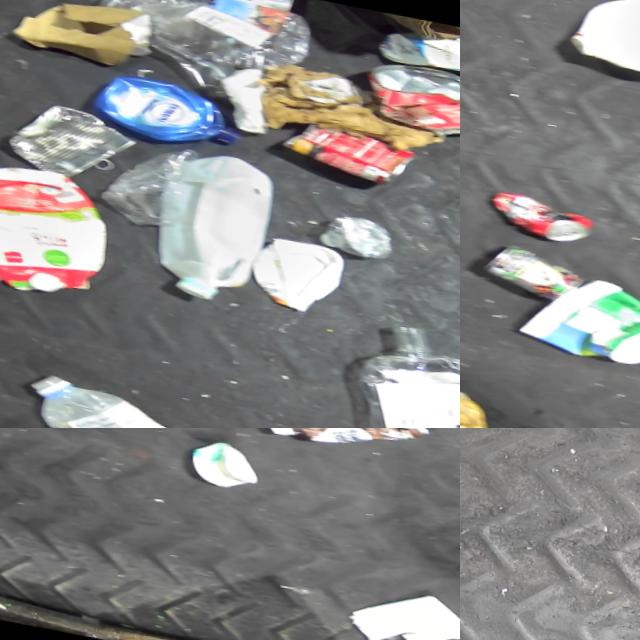can: (5, 97, 141, 188), (279, 112, 423, 184), (357, 51, 460, 139), (483, 239, 595, 304), (487, 185, 604, 246), (0, 244, 13, 315)
milk_jug: (148, 141, 284, 307), (20, 369, 201, 428), (249, 230, 350, 315), (564, 0, 640, 97)
non_white_jug: (0, 153, 124, 302), (88, 67, 251, 153), (378, 12, 460, 78), (214, 0, 304, 9)
plastic_bottle: (92, 0, 320, 77), (349, 312, 460, 428), (321, 207, 402, 258)
